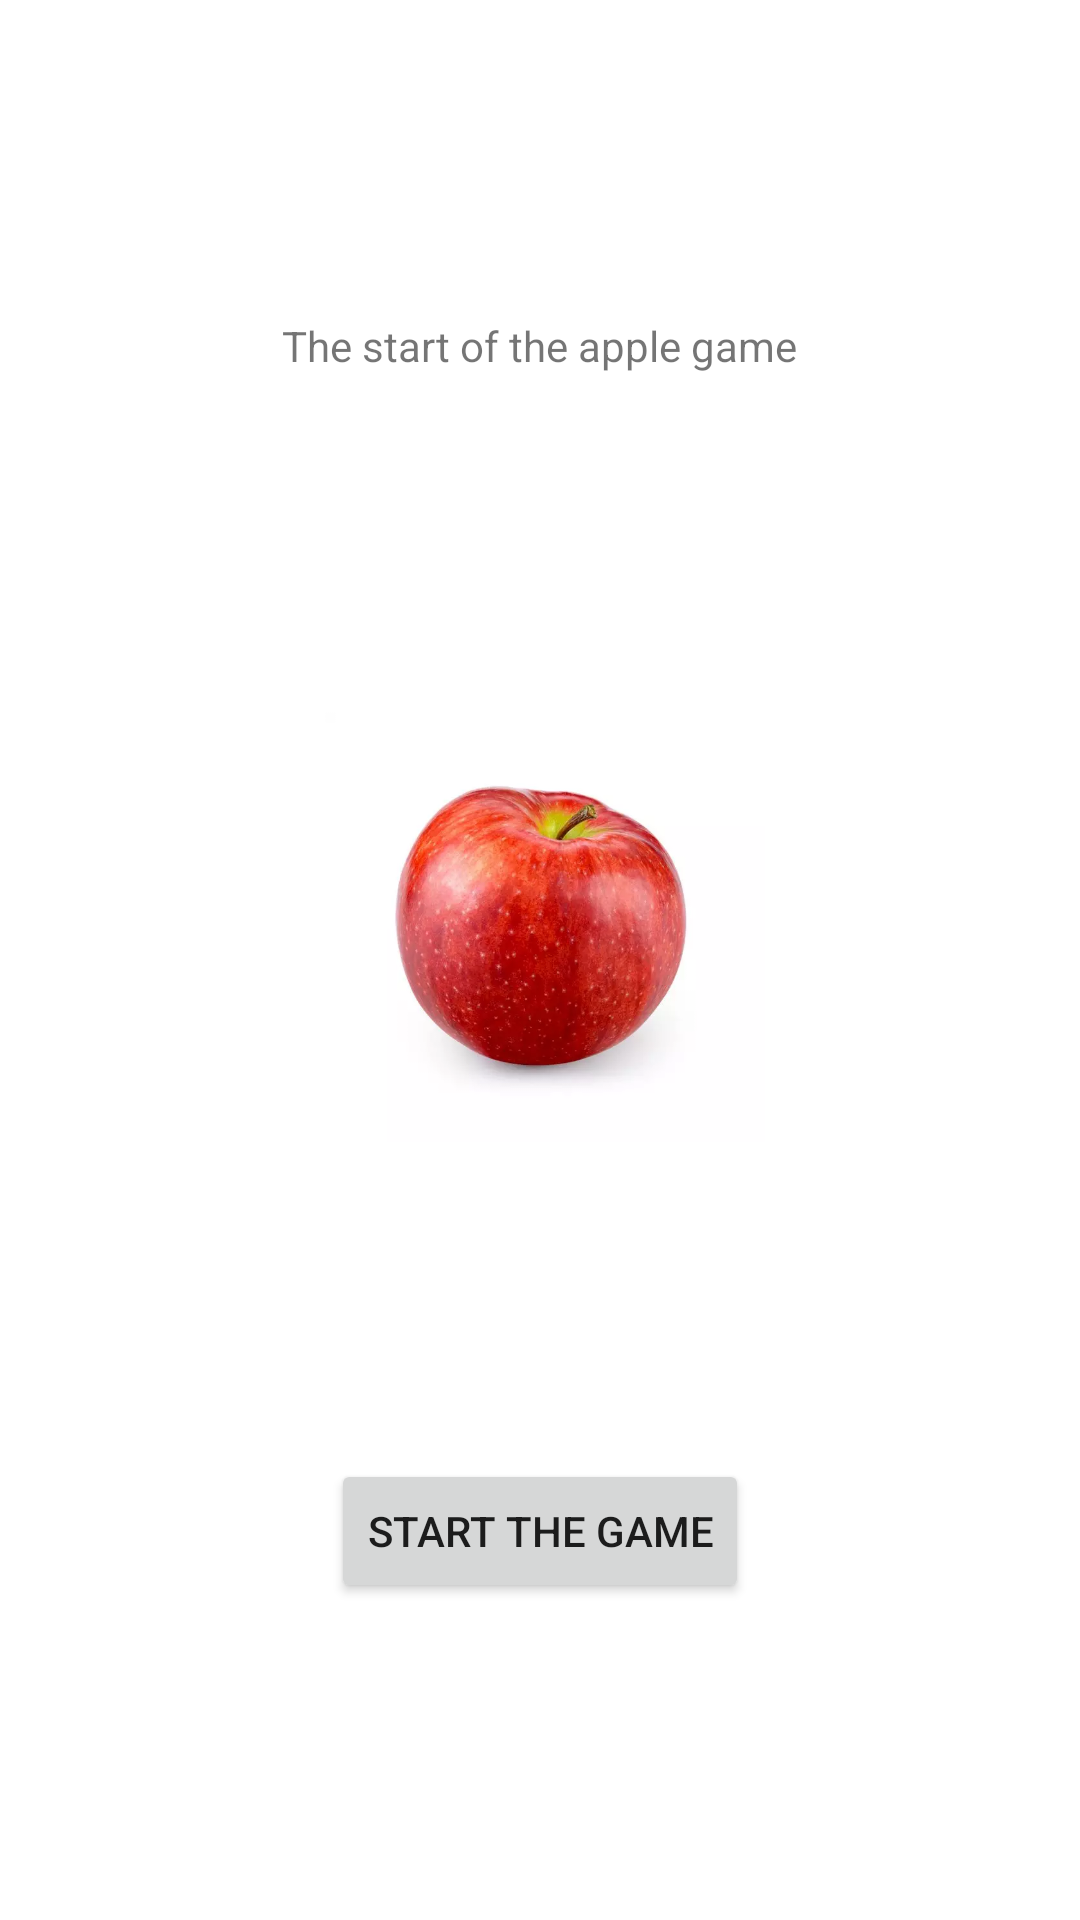

Locate icon controls on the screen. Image size 1080*1920, boxes as [x1,y1,x2,y2].
apple: [395,786,686,1081]
